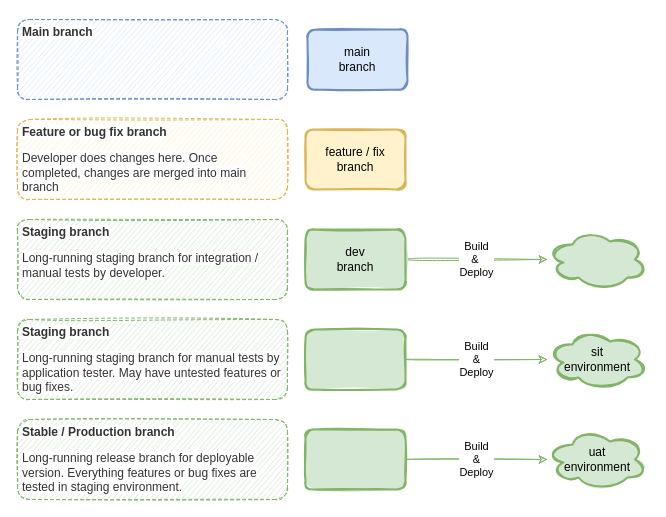
Image size: 666x517. Some labels were removed from this diagram. Each missing label, with the box of its shape:
dev environment: (546, 228, 648, 290)
sit: (304, 328, 406, 390)
uat: (304, 428, 406, 490)
